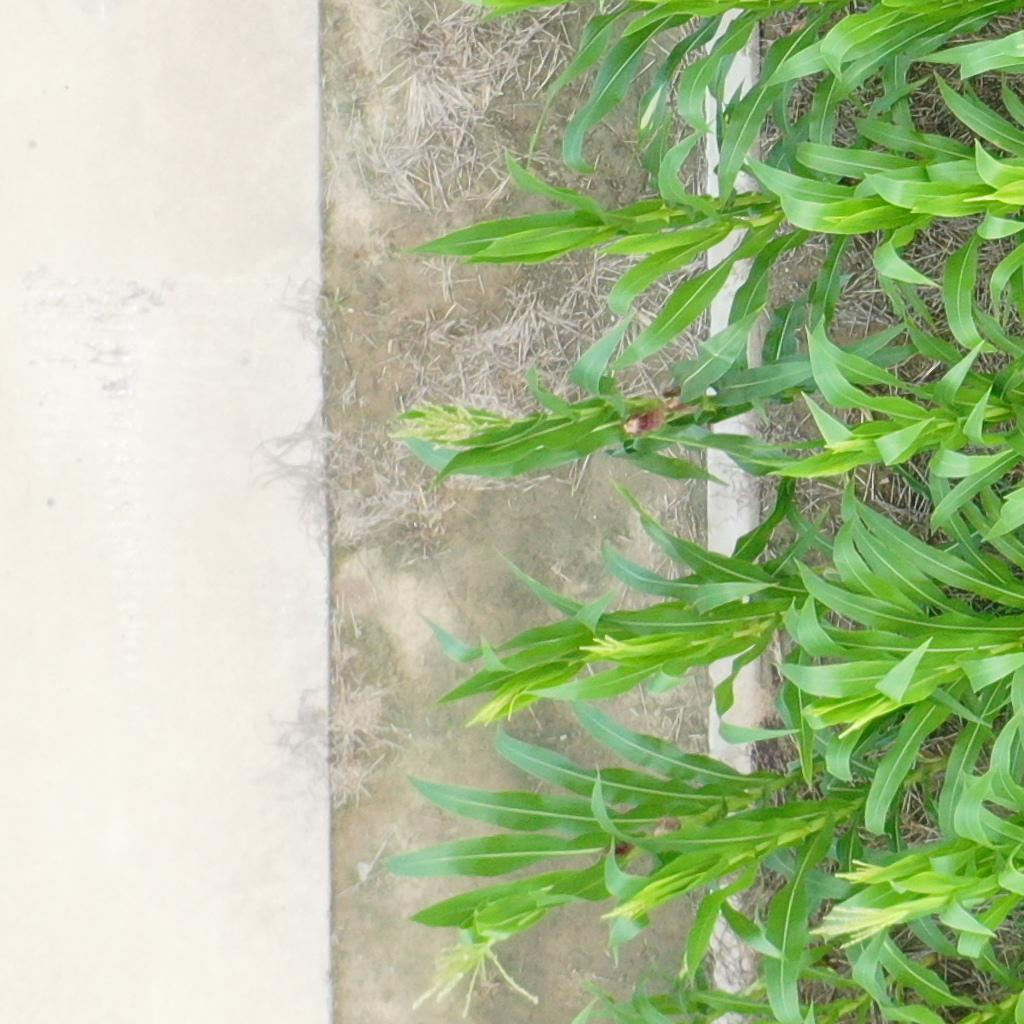Tassel: (409, 913, 542, 1017), (383, 398, 502, 454), (810, 902, 907, 946), (815, 694, 902, 739), (462, 688, 537, 727), (573, 633, 640, 662), (835, 856, 900, 883), (597, 888, 649, 920), (819, 434, 885, 457)
